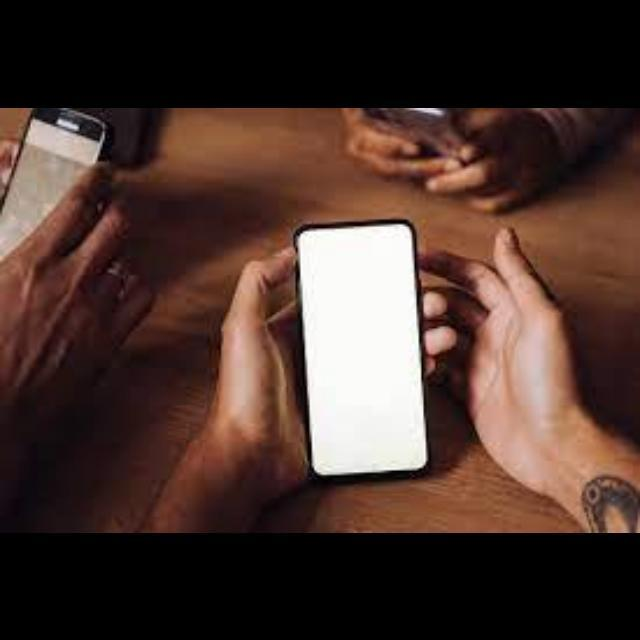PhoneUse: (296, 228, 434, 480), (0, 114, 111, 268)
